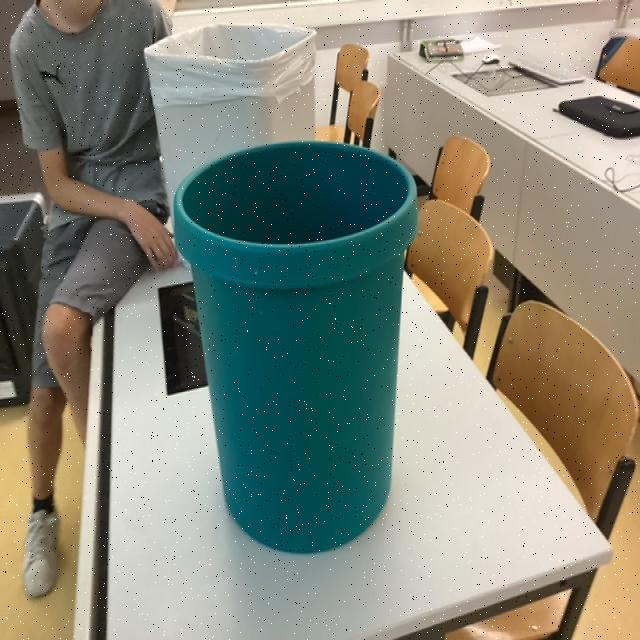garbage container: (158, 136, 450, 576)
